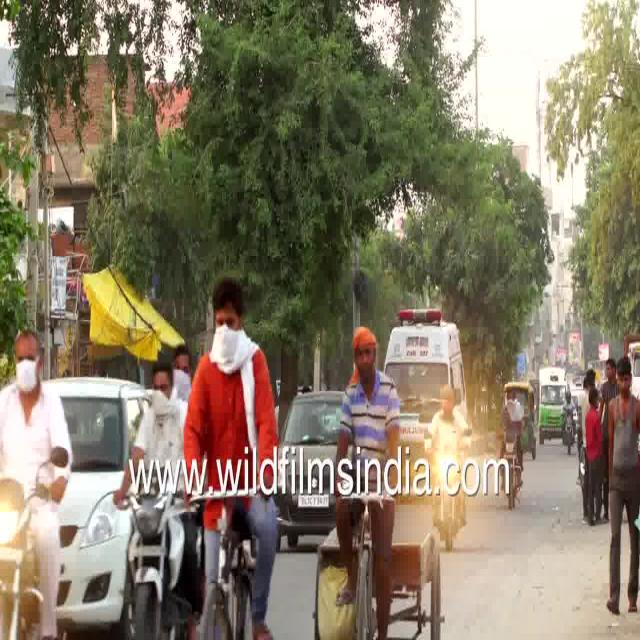ambulance: (385, 305, 450, 444)
